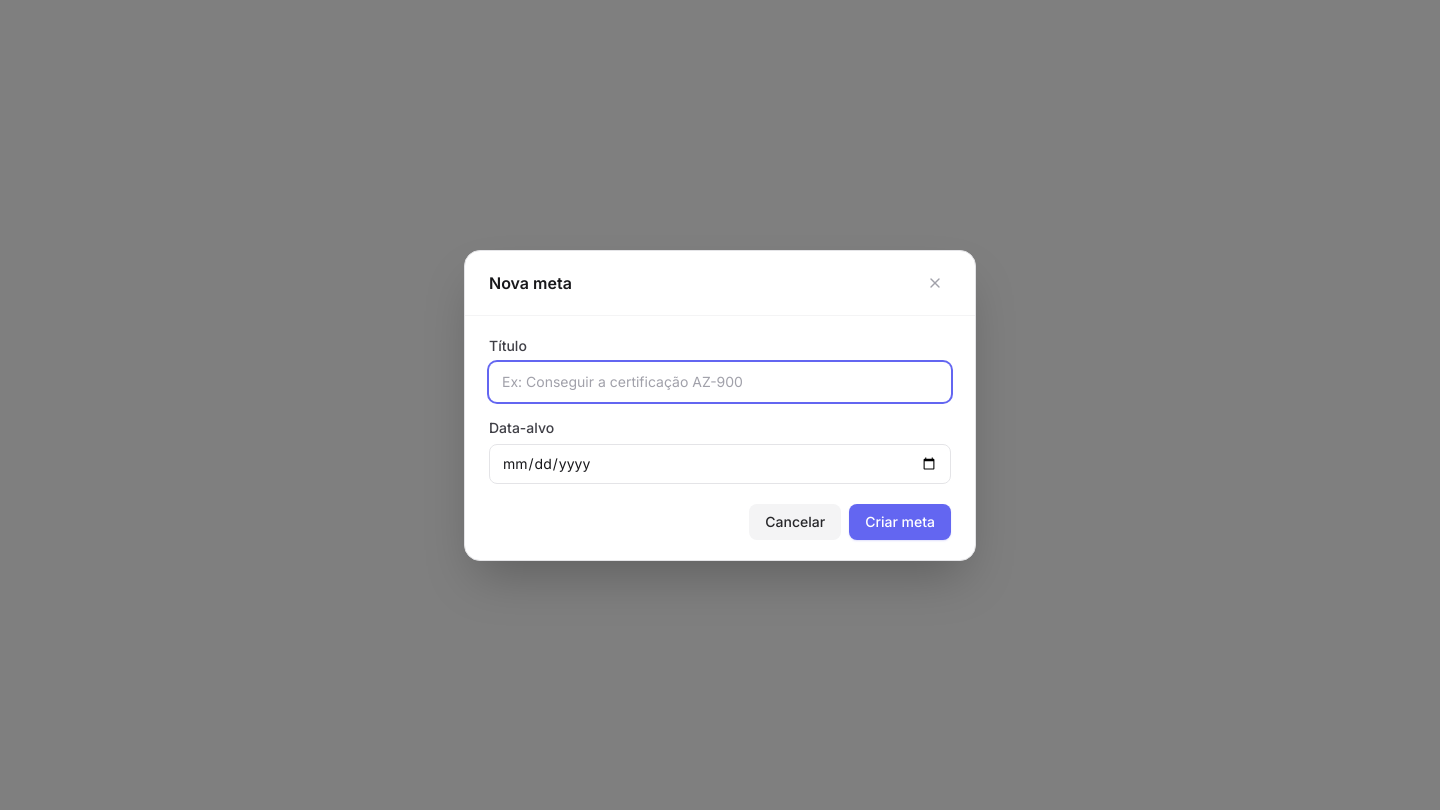
GoalFormModal › não submete quando faltam campos obrigatórios e mostra os erros de validação
What coordinates should you click on to do the following:
click the button "Criar meta"
I would click on:
 (900, 522)
Its box is [849,504,951,540].
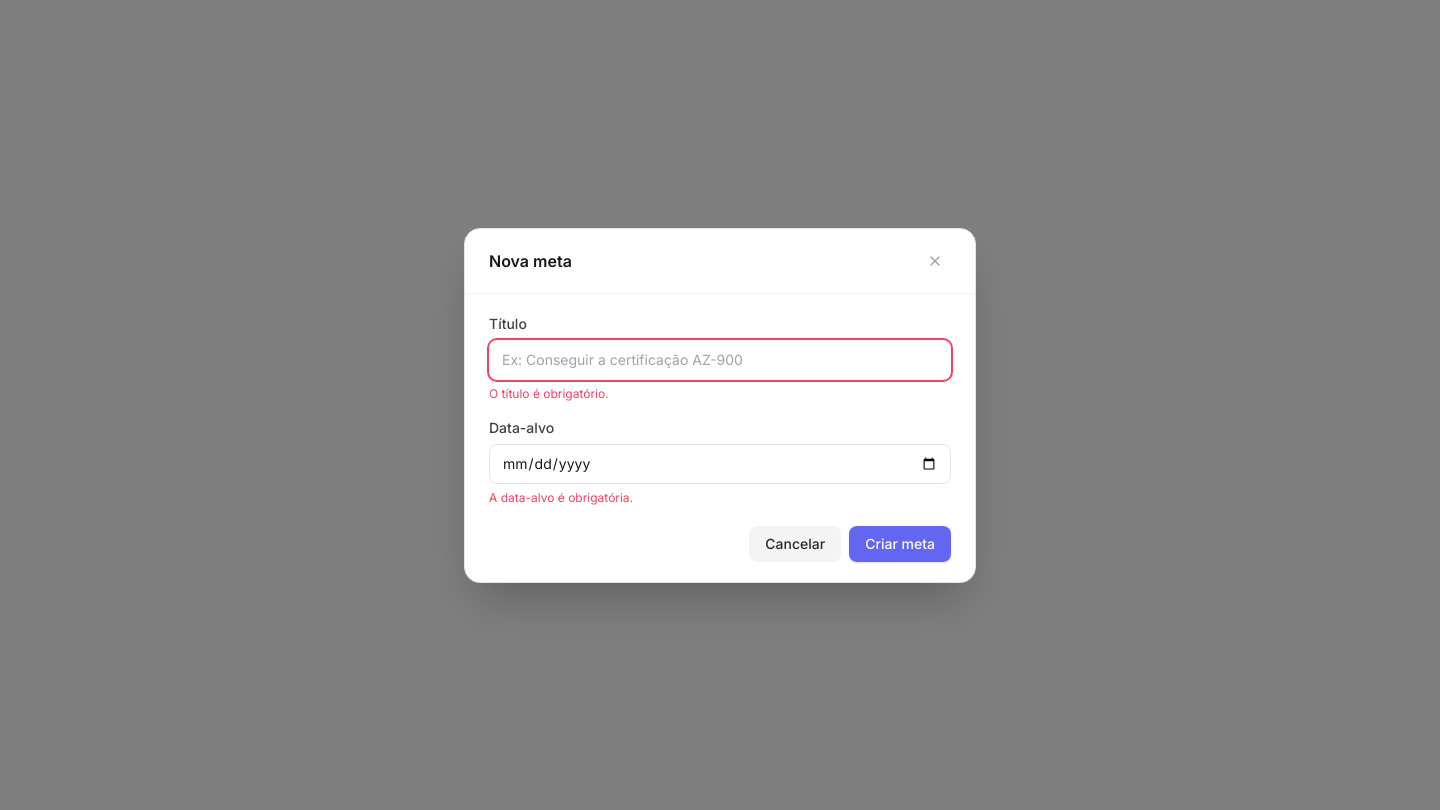
Expected: the text "O título é obrigatório." is shown, [489,386,609,400]
Expected: the text "A data-alvo é obrigatória." is shown, [489,490,633,504]
